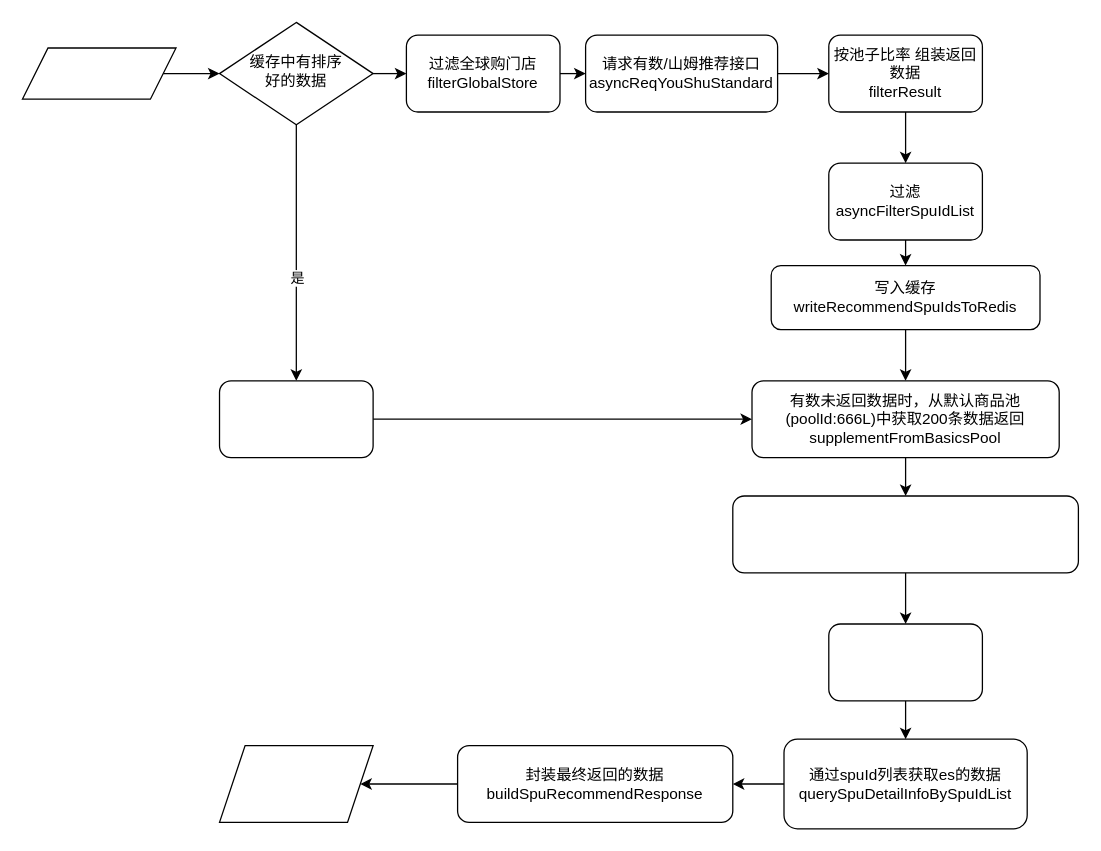
Image size: 1101x851. Some labels were removed from this diagram. Each missing label, with the centre of its shape:
"recommendNew" goes at [98,73].
"Redis" goes at [295,419].
"设置品类多样性策略 categoryDiversityAlgorithmUtil.getSpuIds" goes at [905,534].
"设置置顶商品 setRecommendTopGoods" goes at [905,662].
"返回" goes at [295,783].
